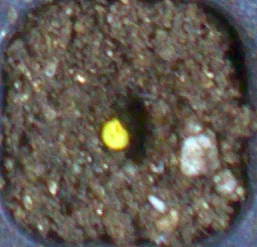pepper seed: (35, 42, 165, 193)
